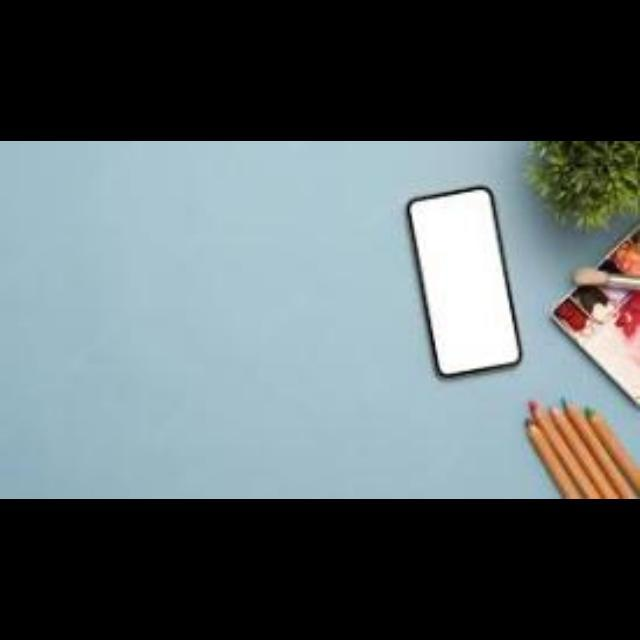Phone: (402, 180, 528, 376)
